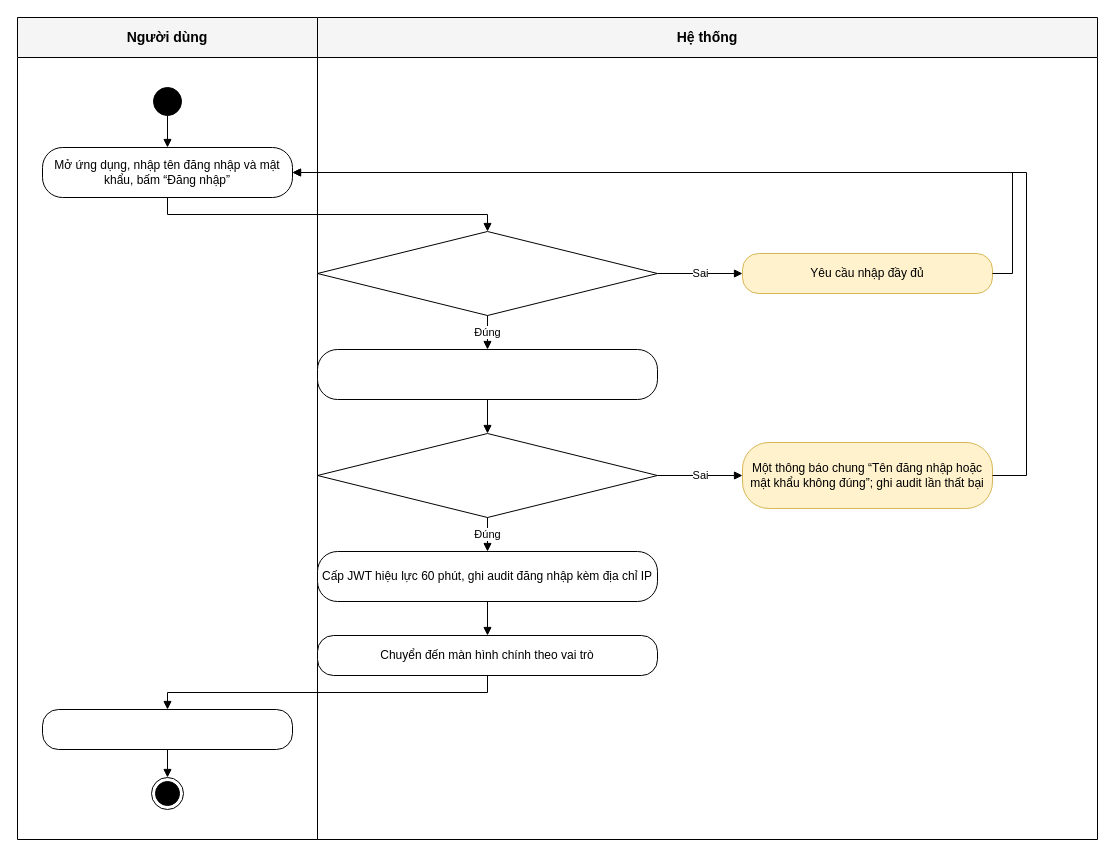
The diagram is 1115 pixels wide and 857 high, and some of its shapes have lost their labels. The shapes that lost their labels are listed below. From the top down, each one's centre as x and y in pixels, then its label:
At point 487,273: "Hai trường đã đủ?".
At point 487,374: "Gọi API POST /api/auth/login, đối chiếu mật khẩu với bản băm bcrypt".
At point 487,475: "Đúng thông tin, tài khoản không khóa?".
At point 167,729: "Sử dụng chức năng theo vai trò".
